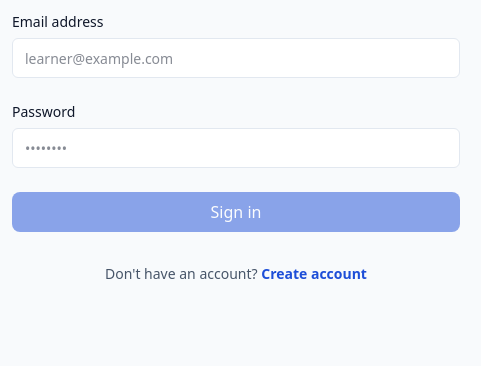
it: LoginForm Component › displays error message when login fails with ApiError
In the field labelled "Email address": (236,58) [12, 38, 460, 78], type "bad@example.com"
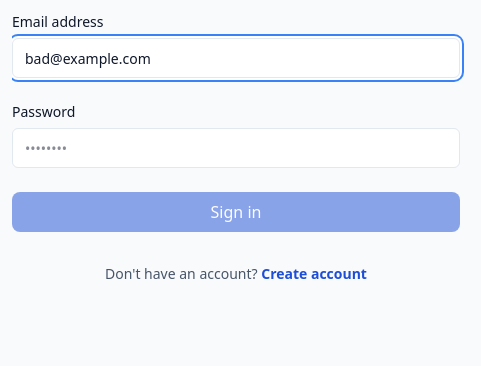
In the password field labelled "Password": (236,148) [12, 128, 460, 168], type "wrongpass"
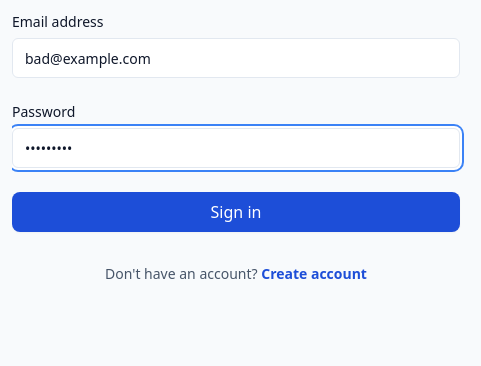
Click the button "Sign in": (236,212) [12, 192, 460, 232]
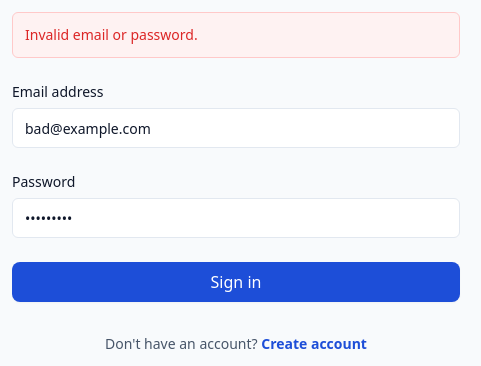
Result: the message reads "Invalid email or password." at [25, 25, 198, 44]
